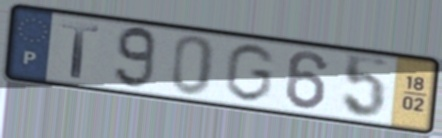0: (169, 33, 218, 98)
5: (341, 55, 390, 122)
6: (282, 49, 331, 111)
9: (110, 25, 159, 92)
G: (221, 41, 278, 104)
T: (59, 20, 102, 81)
